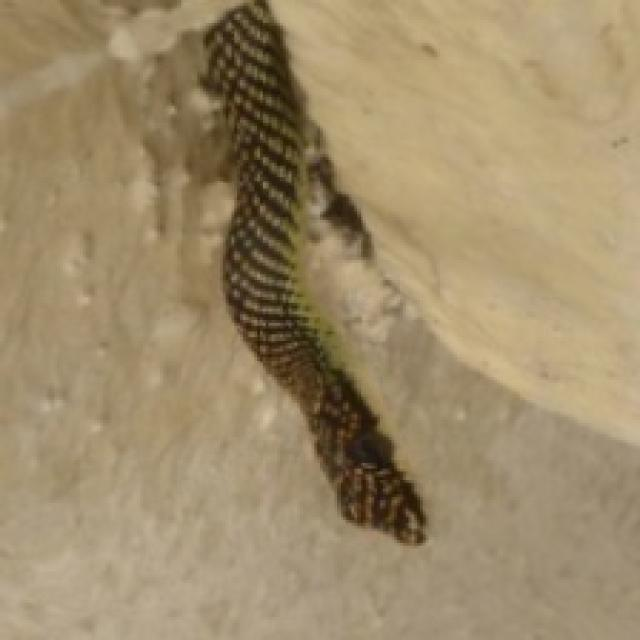paradise tree snake: (203, 0, 423, 540)
